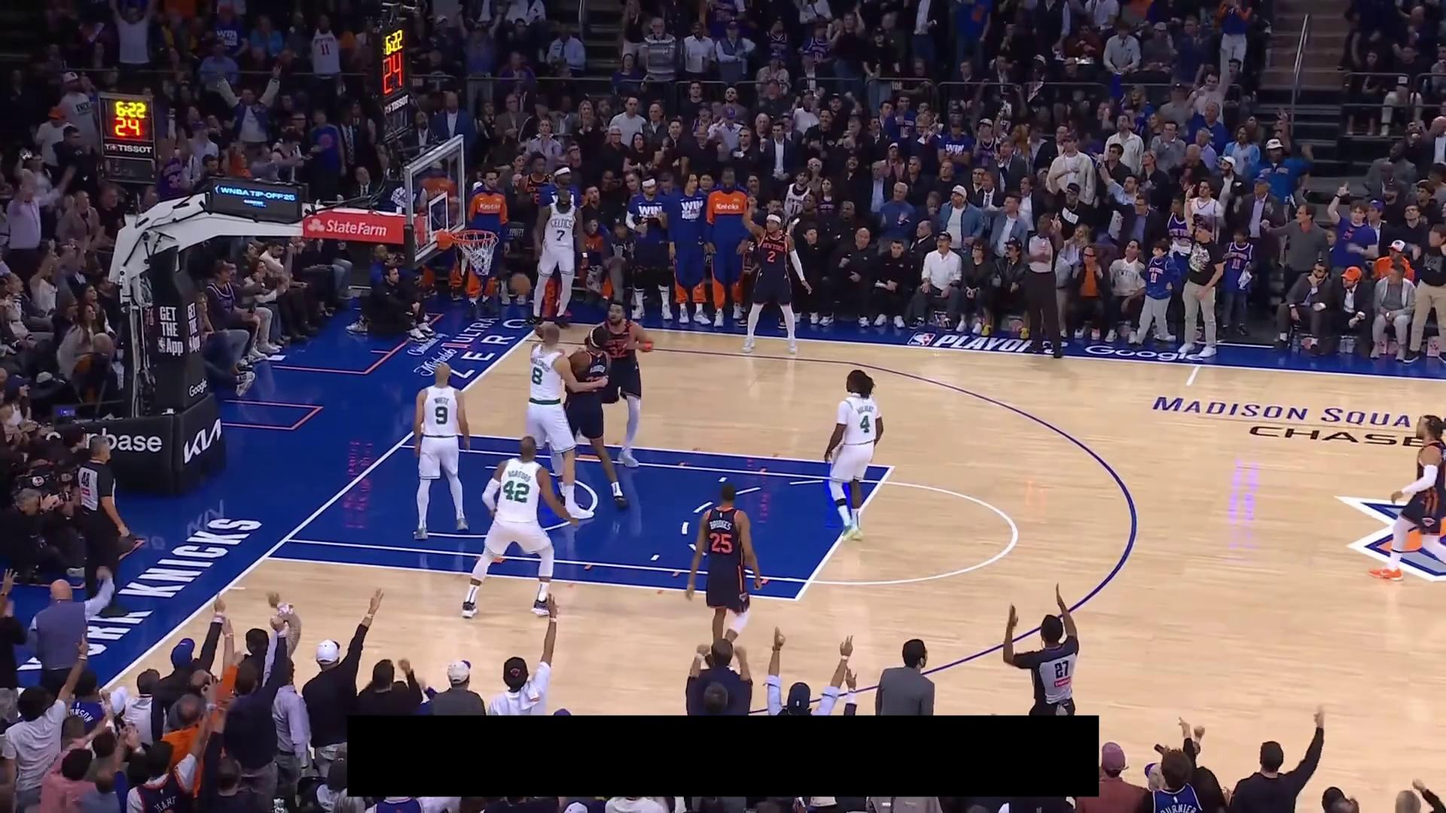ball: (511, 272, 532, 295)
number: (502, 479, 530, 504), (709, 531, 734, 553), (433, 405, 450, 426), (609, 343, 628, 359), (859, 414, 871, 434), (532, 367, 544, 385), (555, 228, 566, 242), (767, 250, 776, 263)
player: (456, 433, 579, 620), (520, 321, 609, 519), (684, 480, 767, 665), (555, 325, 632, 512), (1367, 413, 1445, 583), (735, 191, 813, 355), (583, 297, 655, 468), (409, 359, 473, 542), (822, 369, 885, 543), (528, 183, 588, 330)
referee: (71, 434, 133, 619), (1002, 580, 1080, 716), (1024, 210, 1065, 359)
rim: (452, 227, 498, 244)
